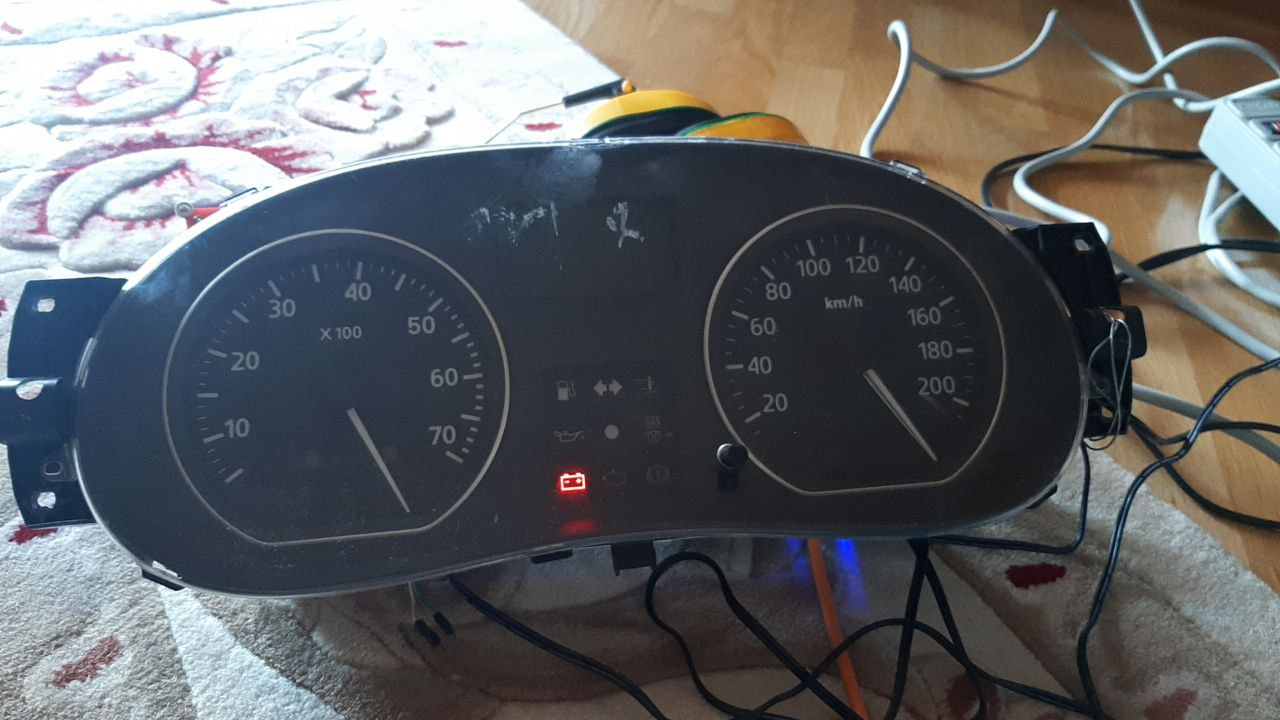accumulator: (555, 470, 590, 496)
